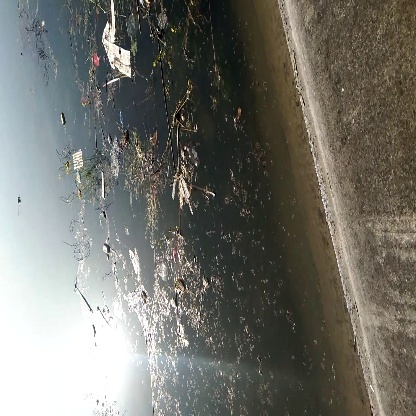plastic-bag: (100, 20, 141, 83)
